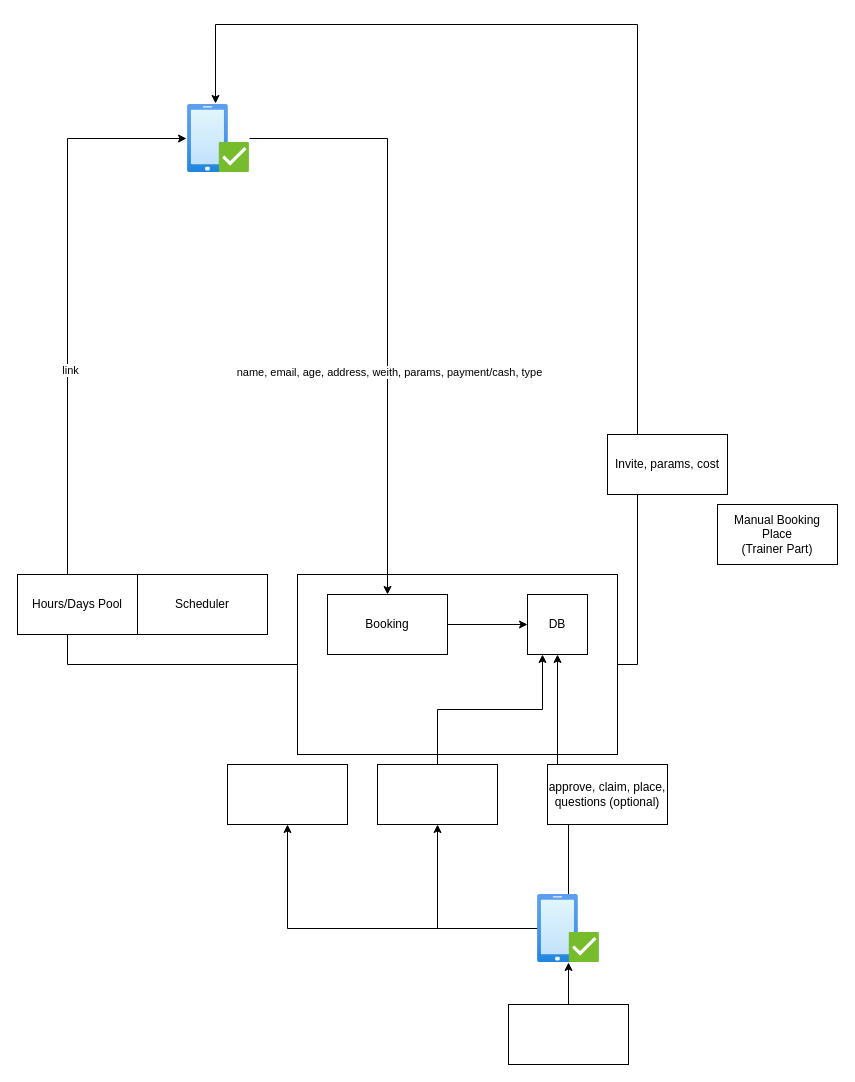
The diagram is 855 pixels wide and 1082 high, and some of its shapes have lost their labels. Each missing label, with the centre of its shape:
Alerts: (287,794)
Dashboard: (437,794)
Trainer: (568,1034)
